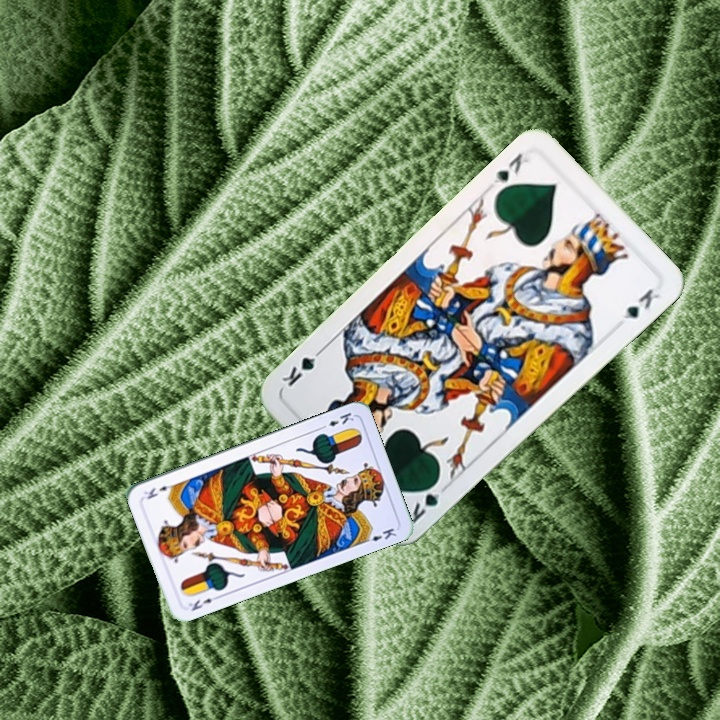EK: (317, 408, 356, 432), (184, 591, 222, 614)
GK: (401, 475, 451, 527), (489, 149, 531, 186)
